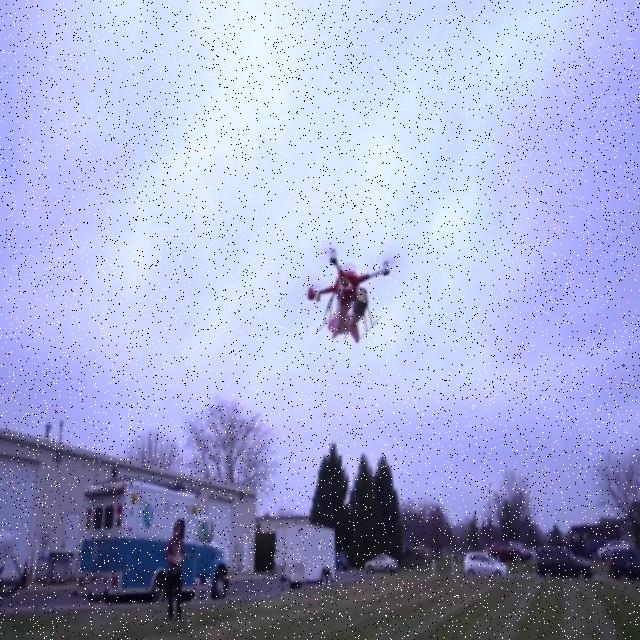UAV: (308, 249, 390, 343)
